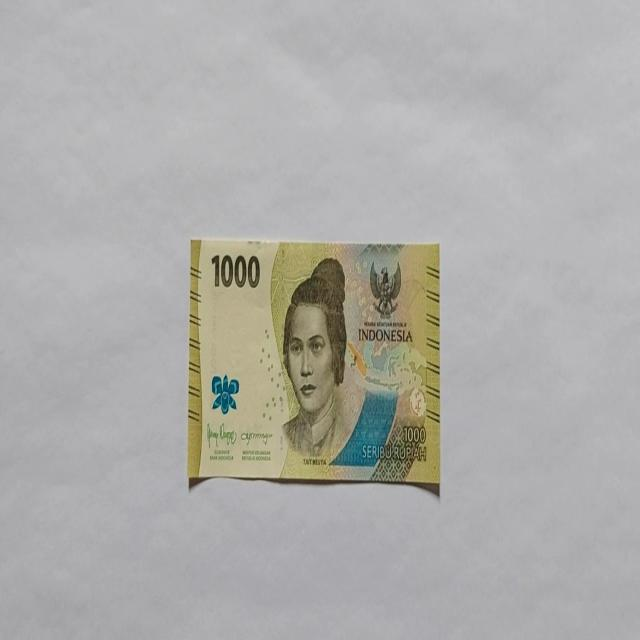seribu rupiah kertas: (187, 236, 441, 494)
